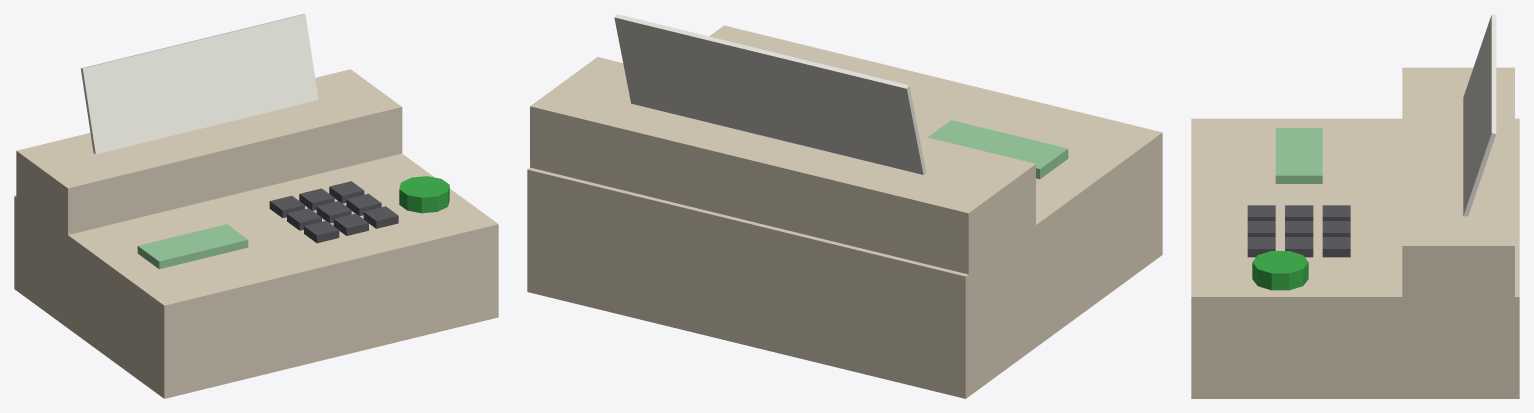
File: fax_machine.glb
The picture shows the model from 3 angles, left to right: view 1: azimuth 30°, elevation 25°; view 2: azimuth 150°, elevation 25°; view 3: azimuth 270°, elevation 25°; orthographic projection. The views are drawn at different scales.
Visible parts, largest first — view 1: body_fax_beige, back_fax_beige, sheet_paper_white, key_fax_key, screen_fax_screen, send_fax_send; view 2: body_fax_beige, back_fax_beige, sheet_paper_white, screen_fax_screen; view 3: body_fax_beige, back_fax_beige, sheet_paper_white, key_fax_key, screen_fax_screen, send_fax_send.
Boxes of the visible parts, x1,y1,x2,y2 form: body_fax_beige: (14,153,498,398); back_fax_beige: (16,69,402,235); sheet_paper_white: (80,14,318,154); key_fax_key: (269,181,398,243); screen_fax_screen: (137,224,248,269); send_fax_send: (399,176,449,213); body_fax_beige: (527,25,1162,398); back_fax_beige: (530,57,1035,280); sheet_paper_white: (614,14,926,174); screen_fax_screen: (928,120,1068,179); body_fax_beige: (1191,118,1519,398); back_fax_beige: (1402,67,1514,313); sheet_paper_white: (1463,14,1496,216); key_fax_key: (1247,205,1350,257); screen_fax_screen: (1275,128,1322,183); send_fax_send: (1252,251,1308,290).
Size of the model in its own units: 0.45 by 0.2781 by 0.35.
